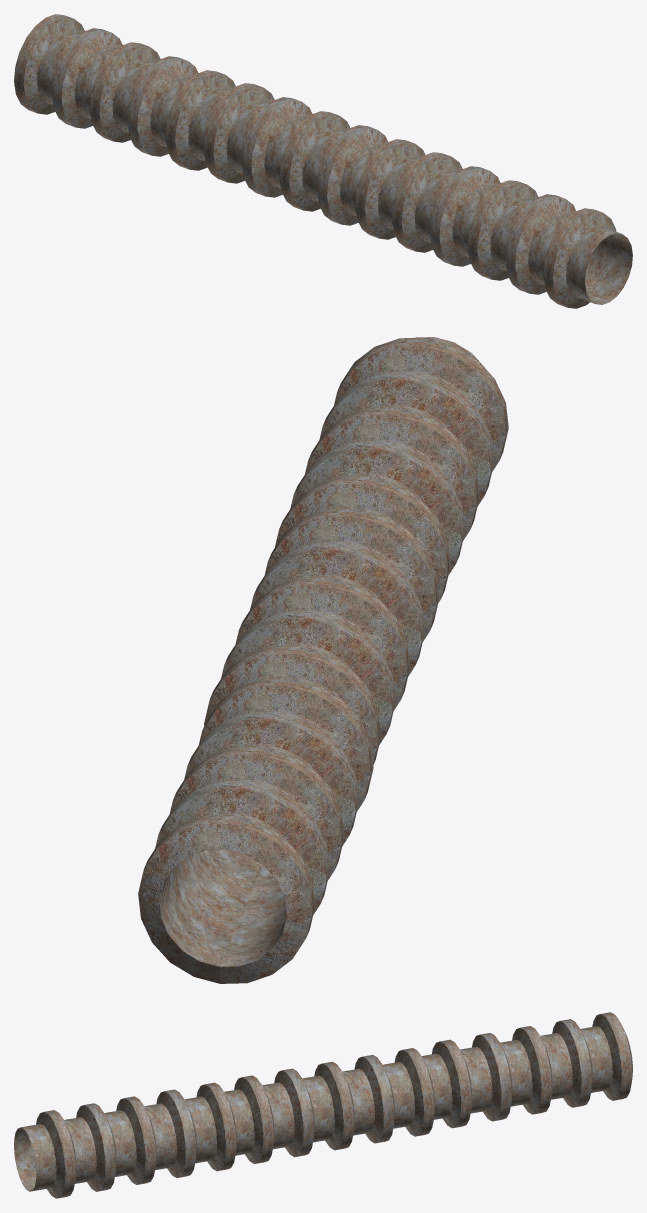
The model's file is gasPipes.fbx.
3 renders of one model, top to bottom at view 1: azimuth 30°, elevation 25°; view 2: azimuth 150°, elevation 25°; view 3: azimuth 270°, elevation 25°, orthographic. The views are drawn at different scales.
Parts seen in each view (by area): view 1: pPipe1, pPipe3, pPipe2; view 2: pPipe3, pPipe1, pPipe2; view 3: pPipe1, pPipe2, pPipe3.
Part boxes in pixels (<box>): pPipe1: <box>392,152,632,308</box>; pPipe3: <box>14,14,235,170</box>; pPipe2: <box>203,83,425,239</box>; pPipe3: <box>138,677,373,983</box>; pPipe1: <box>275,337,508,602</box>; pPipe2: <box>204,507,439,764</box>; pPipe1: <box>14,1082,236,1198</box>; pPipe2: <box>224,1048,435,1163</box>; pPipe3: <box>421,1012,632,1128</box>.
Bounding box in the file's own units: 97.94 × 32.57 × 205.
Materials: 1 (1 with a texture image).
